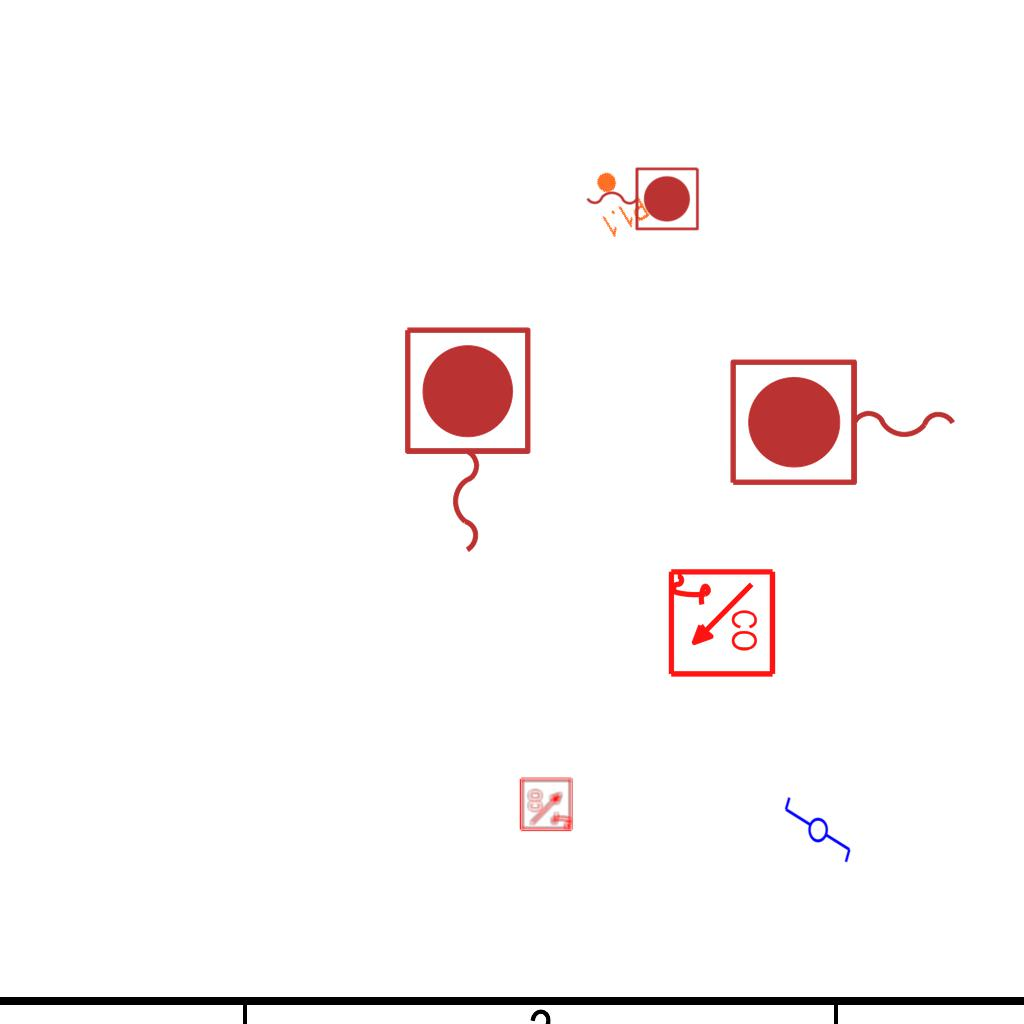Downlight_LED_Einbauleuchten_Flur: (579, 161, 653, 241)
ROA_Rauchmelder_optisch_mit_Signalgeber_(Sockelsirene): (664, 567, 777, 680), (519, 776, 575, 832)
Wechselschalter: (781, 795, 853, 873)
Zugtaster: (722, 352, 966, 496), (394, 319, 538, 563), (581, 162, 703, 234)
